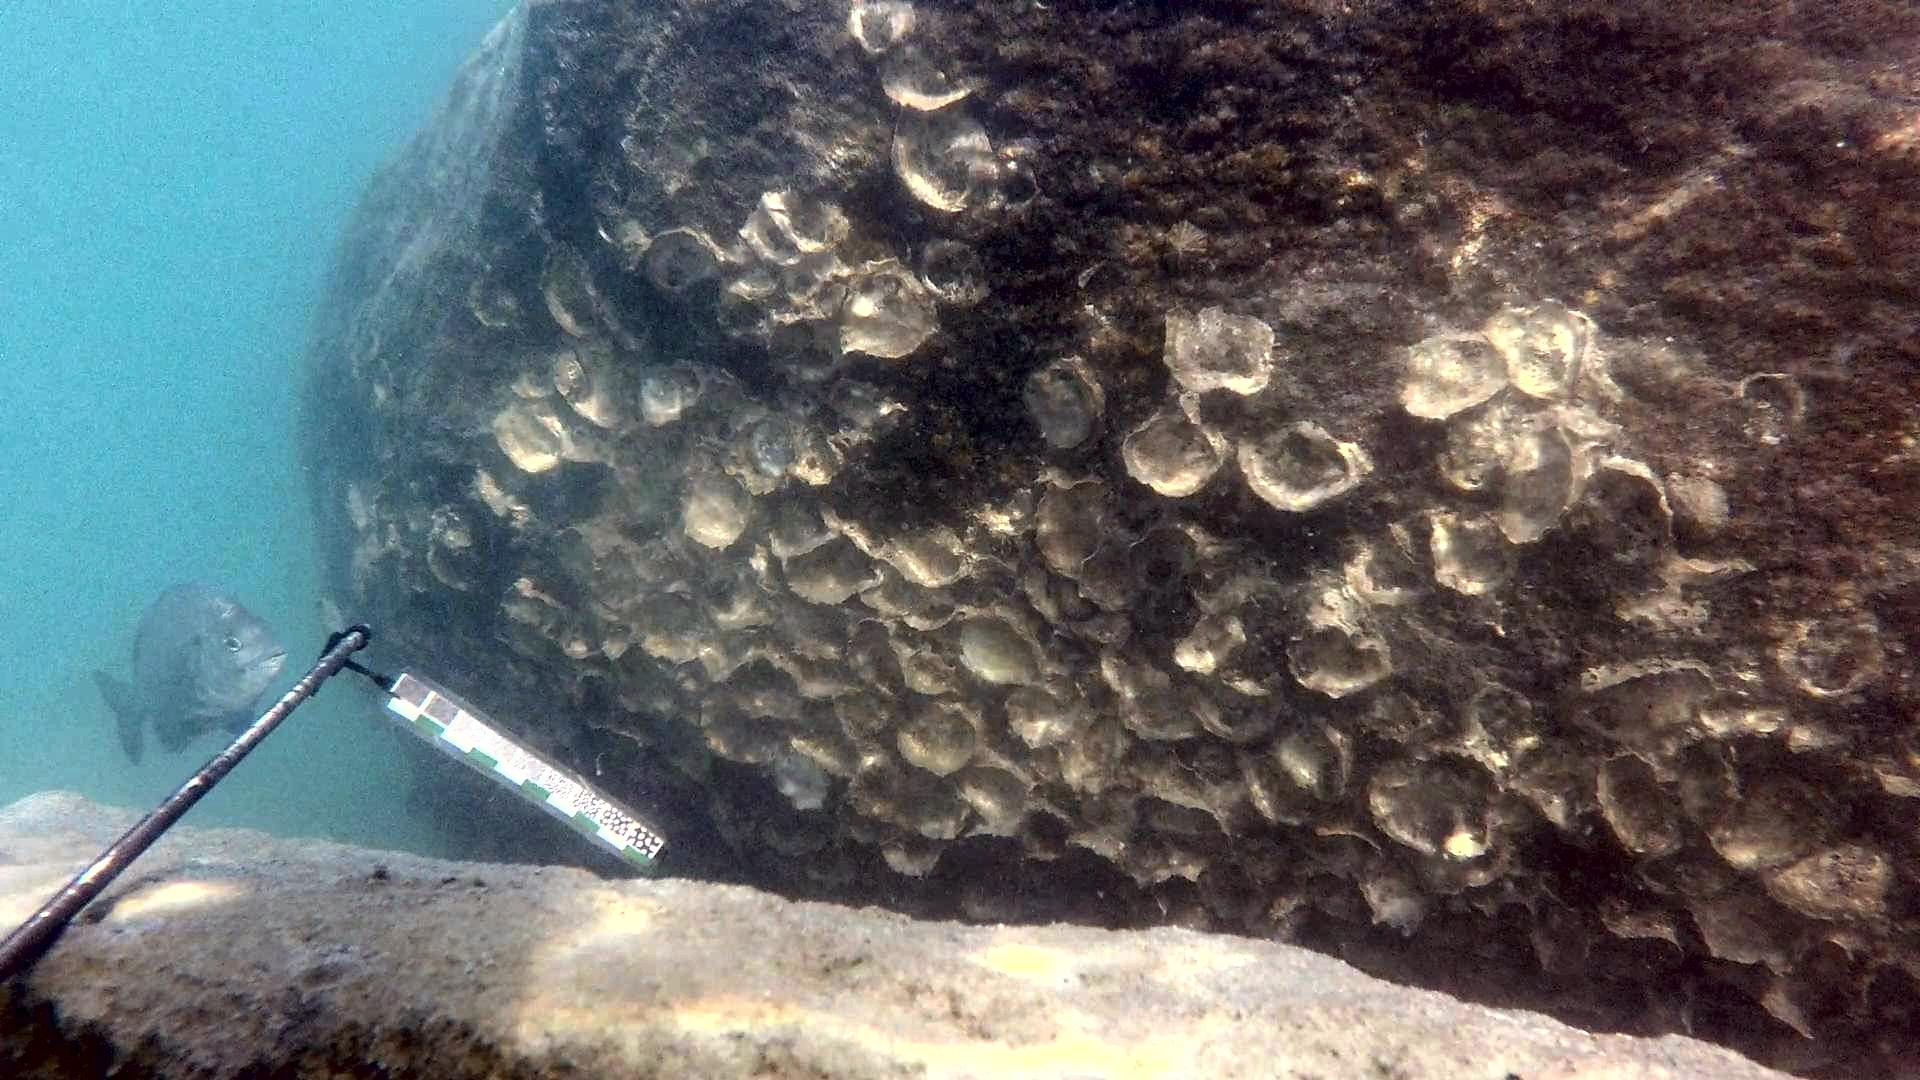acanthopagrus palmaris: (88, 563, 299, 769)
